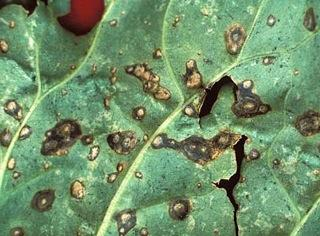Tomato leaf bacterial spot: (1, 3, 316, 236)
